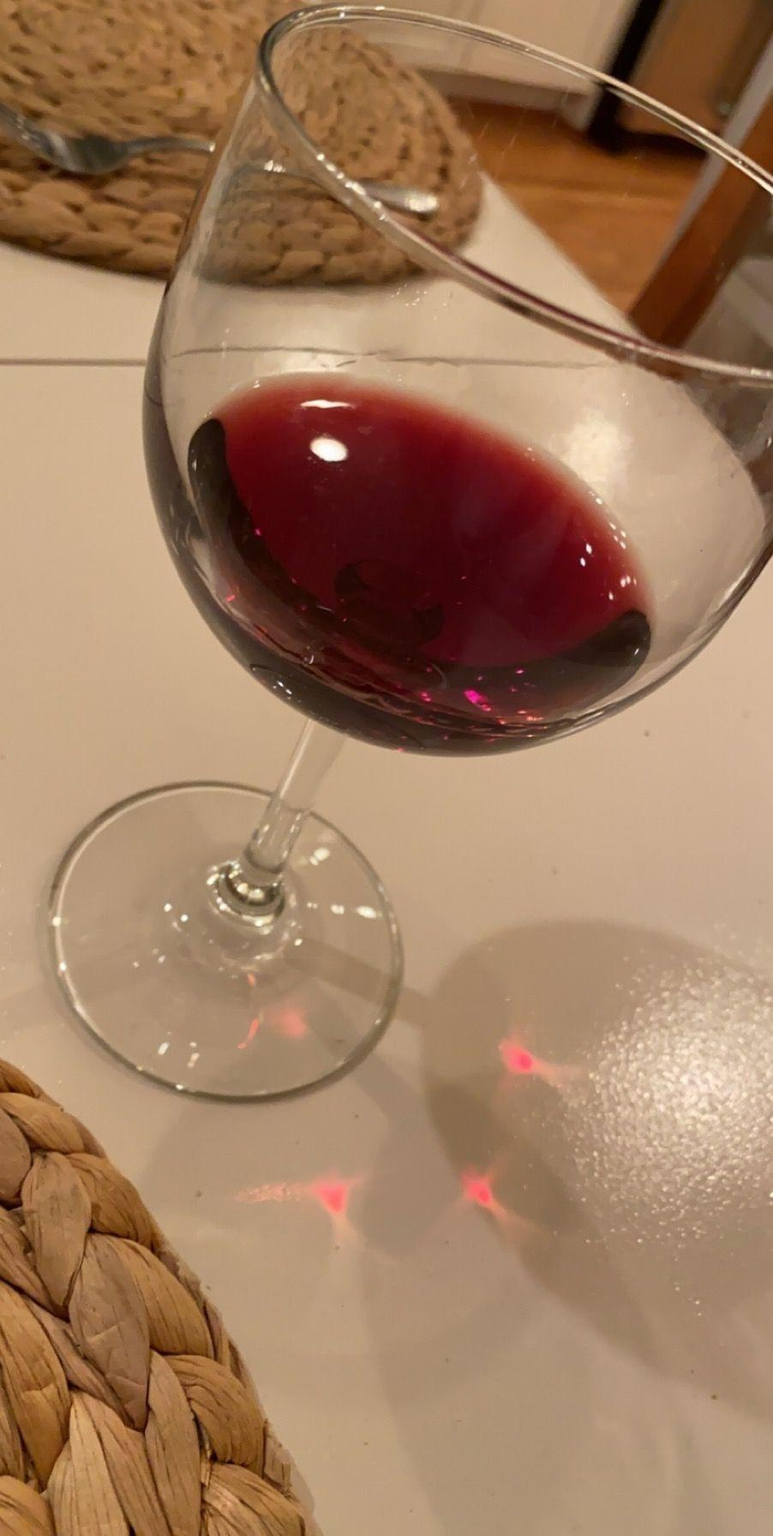glass-wine: (44, 6, 770, 1116)
